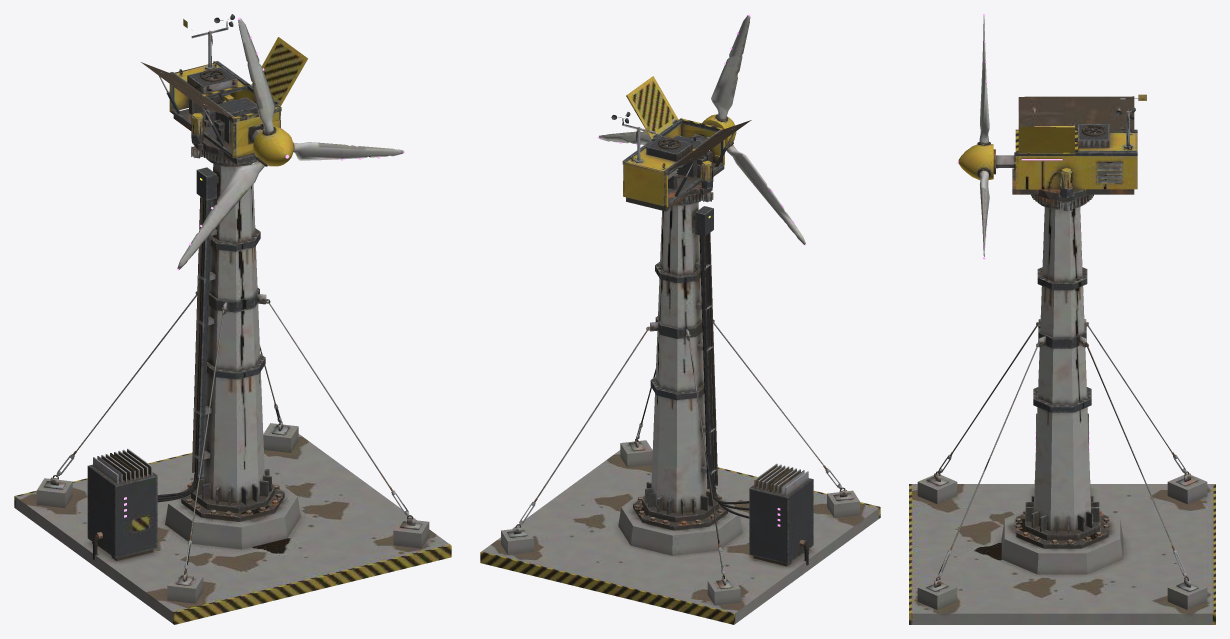
Rendered from turbina_eolica.glb.
3 renders of one model, left to right at view 1: azimuth 30°, elevation 25°; view 2: azimuth 150°, elevation 25°; view 3: azimuth 270°, elevation 25°, orthographic. The views are drawn at different scales.
Visible parts, largest first — view 1: turbina_eolica_corpo, turbina_eolica_nacele, turbina_eolica_helice; view 2: turbina_eolica_corpo, turbina_eolica_nacele, turbina_eolica_helice; view 3: turbina_eolica_corpo, turbina_eolica_nacele, turbina_eolica_helice.
Part boxes in pixels (left/top/right/bottom): turbina_eolica_corpo: left=14, top=151, right=451, bottom=624; turbina_eolica_nacele: left=141, top=14, right=307, bottom=164; turbina_eolica_helice: left=177, top=19, right=403, bottom=269; turbina_eolica_corpo: left=480, top=194, right=880, bottom=624; turbina_eolica_nacele: left=611, top=76, right=751, bottom=211; turbina_eolica_helice: left=599, top=15, right=805, bottom=244; turbina_eolica_corpo: left=909, top=194, right=1215, bottom=624; turbina_eolica_nacele: left=996, top=94, right=1146, bottom=211; turbina_eolica_helice: left=958, top=16, right=995, bottom=256.
Bounding box in the file's own units: 1.97 × 3.74 × 1.96.
Materials: 4 (1 with a texture image).
